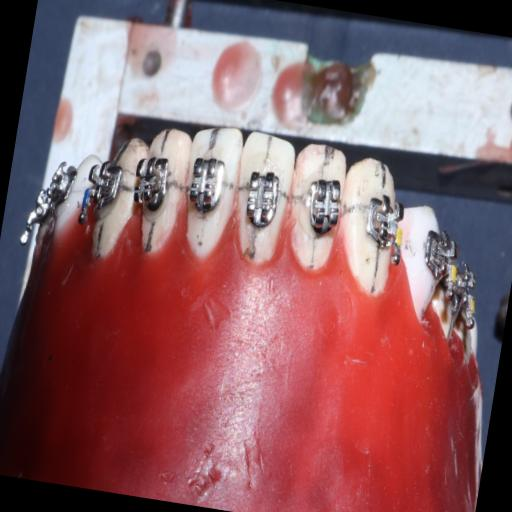incorrect_brace: (238, 166, 286, 236)
